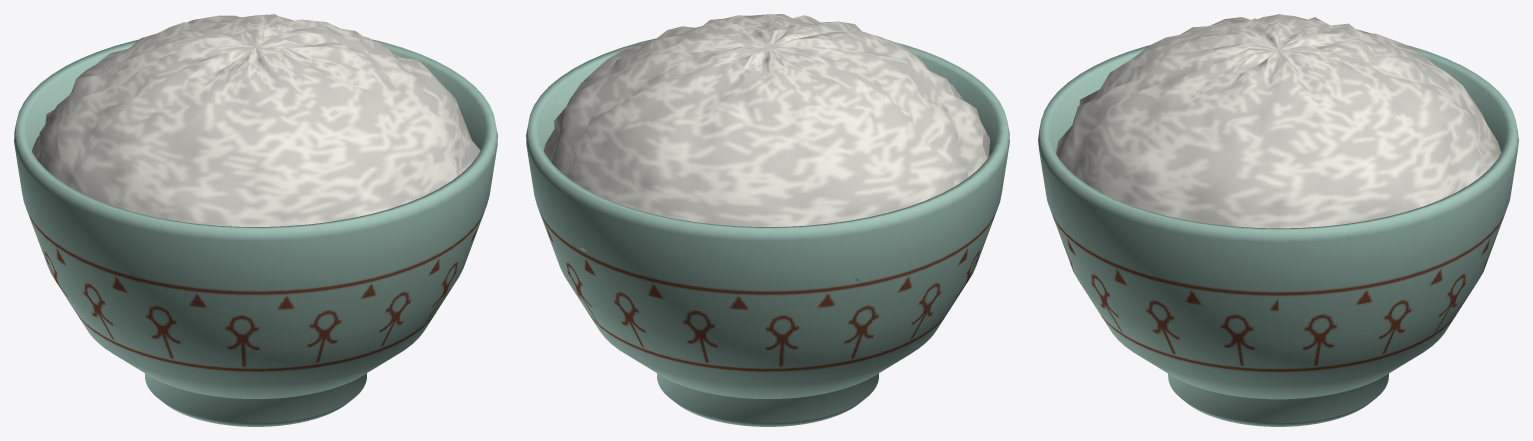
Rendered from z3_tazon_arroz.obj.
3 renders of one model, left to right at view 1: azimuth 30°, elevation 25°; view 2: azimuth 150°, elevation 25°; view 3: azimuth 270°, elevation 25°, orthographic.
Parts seen in each view (by area): view 1: tazon_arroz; view 2: tazon_arroz; view 3: tazon_arroz.
Boxes of the visible parts, x1,y1,x2,y2 form: tazon_arroz: (14, 14, 497, 426); tazon_arroz: (526, 14, 1009, 426); tazon_arroz: (1038, 14, 1518, 426).
Size of the model in its own units: 0.122 by 0.0948 by 0.122.
Materials: 2 (2 with a texture image).
